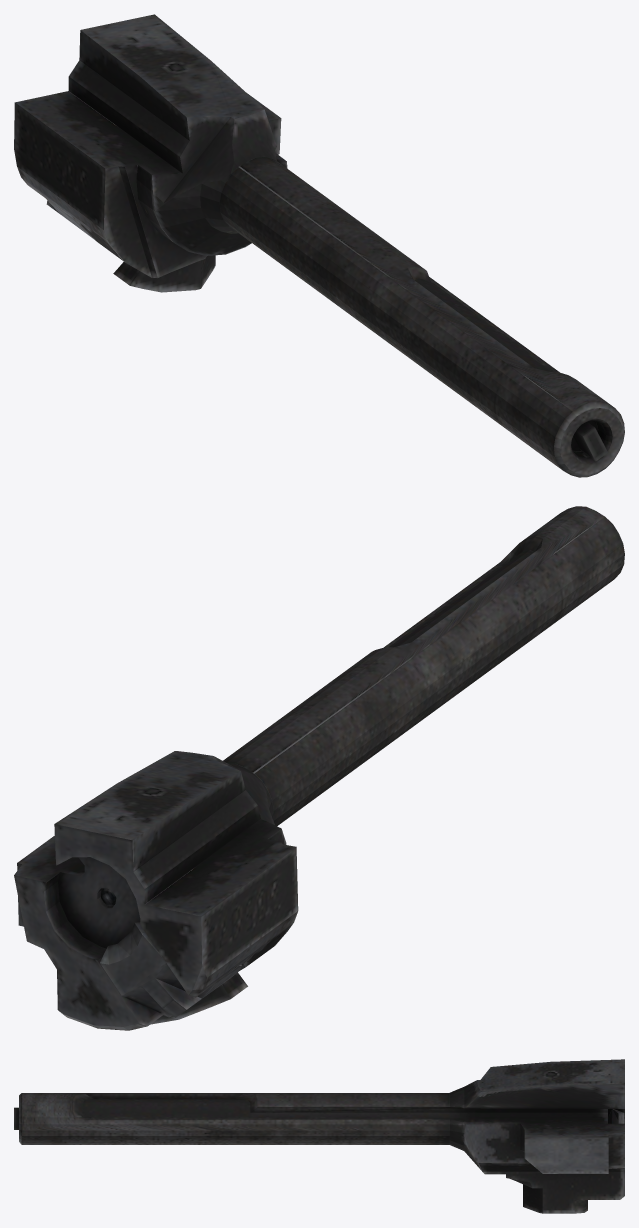
The picture shows the model from 3 angles, top to bottom: view 1: azimuth 30°, elevation 25°; view 2: azimuth 150°, elevation 25°; view 3: azimuth 270°, elevation 25°; orthographic projection. The views are drawn at different scales.
Parts seen in each view (by area): view 1: TW_57dc2fa62459775949412633_PZ_Import; view 2: TW_57dc2fa62459775949412633_PZ_Import; view 3: TW_57dc2fa62459775949412633_PZ_Import.
Boxes of the visible parts, x1=… form: TW_57dc2fa62459775949412633_PZ_Import: x1=14, y1=14, x2=624, y2=477; TW_57dc2fa62459775949412633_PZ_Import: x1=14, y1=506, x2=624, y2=1030; TW_57dc2fa62459775949412633_PZ_Import: x1=14, y1=1059, x2=624, y2=1213.
Bounding box in the file's own units: 0.0134 × 0.0584 × 0.0142.
1 material, 1 textured.
